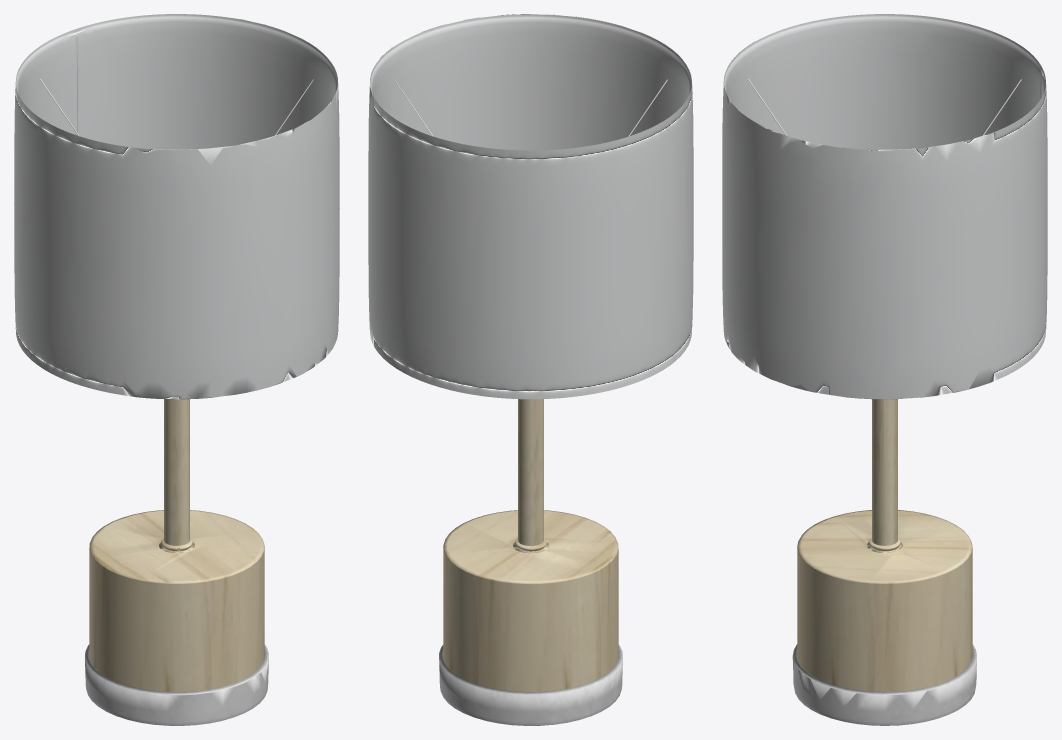
3 views of the same model, side by side, from view 1: azimuth 30°, elevation 25°; view 2: azimuth 150°, elevation 25°; view 3: azimuth 270°, elevation 25° (orthographic).
Visible parts, largest first — view 1: RootNode; view 2: RootNode; view 3: RootNode.
Boxes of the visible parts, box(x1,y1,x2,y2) form: RootNode: box(14, 14, 339, 725); RootNode: box(368, 14, 693, 725); RootNode: box(722, 14, 1047, 725).
Size of the model in its own units: 0.2286 by 0.4699 by 0.2285.
Materials: 1 (1 with a texture image).
